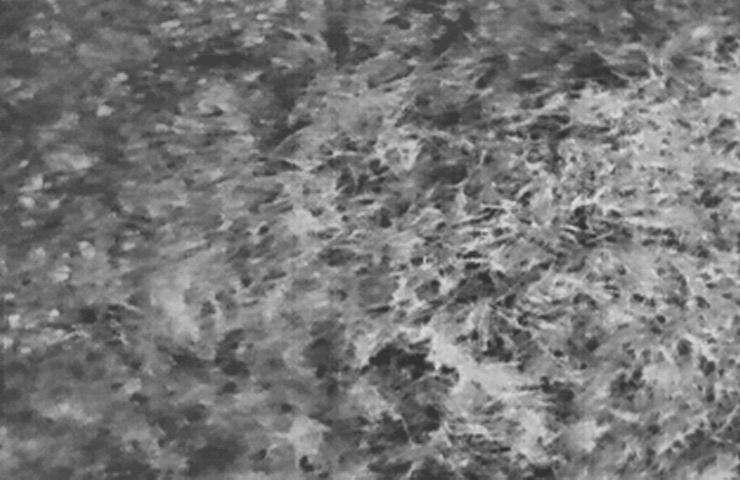landmines: (350, 267, 399, 313)
